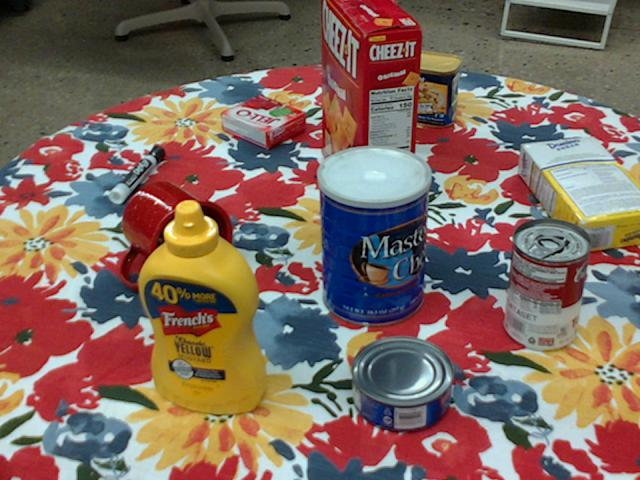cracker_box: (322, 0, 421, 214)
gelatin_box: (219, 95, 305, 150)
large_marker: (107, 144, 163, 203)
master_chef_can: (316, 146, 430, 328)
mug: (119, 181, 232, 289)
mustard_bottle: (137, 200, 267, 413)
potted_meat_can: (382, 47, 462, 126)
sugar_box: (518, 135, 639, 254)
tomato_soup_can: (505, 218, 590, 350)
tuna_fish_can: (348, 337, 450, 432)
